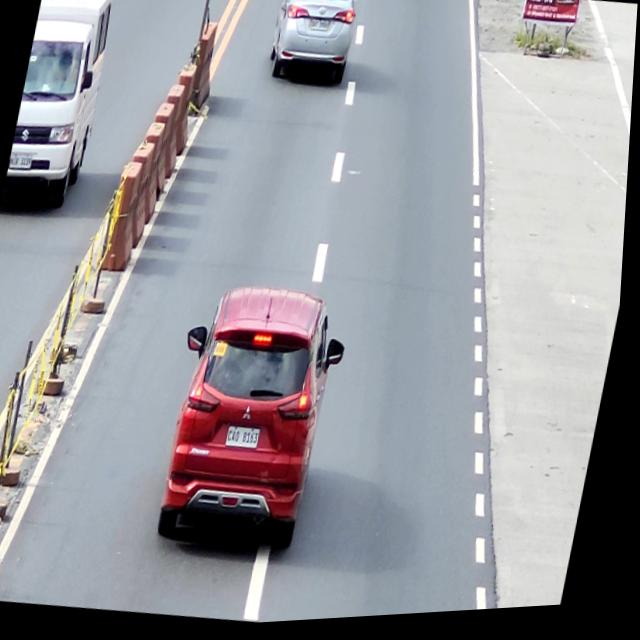Car: (152, 276, 362, 567), (4, 0, 122, 213), (259, 0, 364, 97)
License-Plate: (231, 427, 267, 457), (10, 152, 37, 172), (310, 21, 331, 37)
